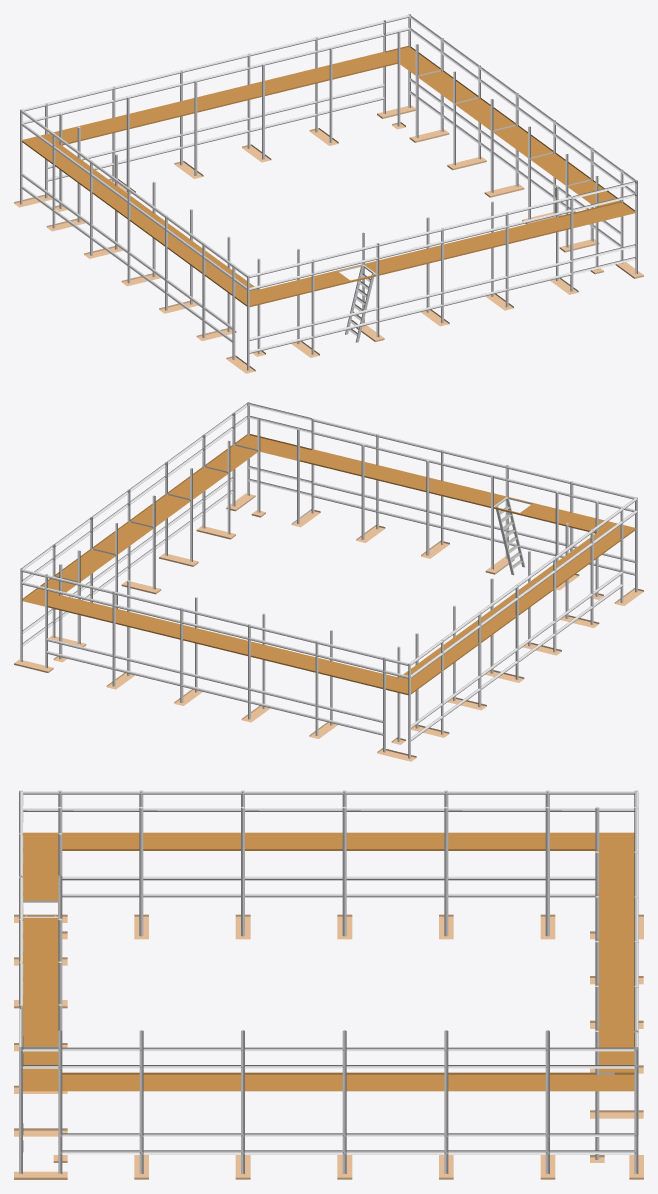
3 views of the same model, one above another, from view 1: azimuth 30°, elevation 25°; view 2: azimuth 150°, elevation 25°; view 3: azimuth 270°, elevation 25° (orthographic). The views are drawn at different scales.
Parts seen in each view (by area): view 1: geruest merged; view 2: geruest merged; view 3: geruest merged.
Boxes of the visible parts, x1,y1,x2,y2 form: geruest merged: [14, 14, 643, 373]; geruest merged: [14, 402, 643, 761]; geruest merged: [14, 790, 643, 1179].
Bounding box in the file's own units: 12.37 × 2.83 × 12.52.
